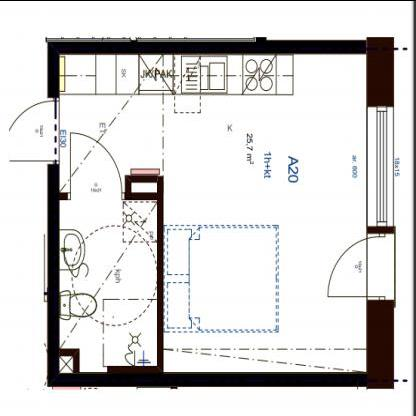door: (325, 232, 401, 300), (67, 126, 125, 207), (3, 92, 61, 168)
window: (362, 95, 398, 230)
